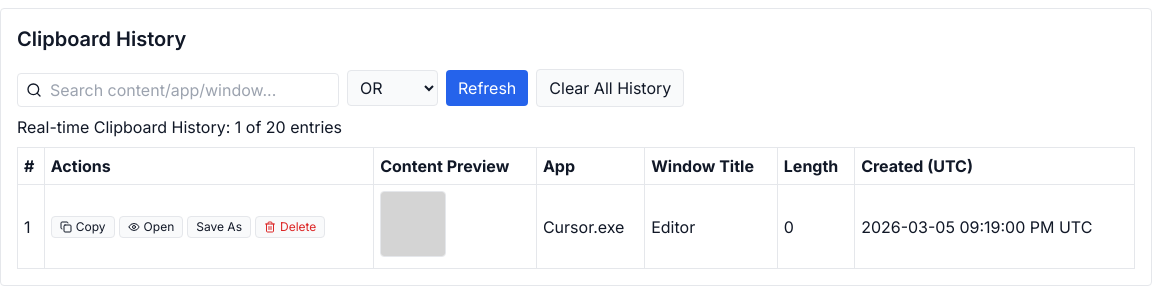
Scenario: ClipboardTab search operators › shows recovered thumbnail status after refresh
Click the button "Refresh": coordinates (487, 88) [446,70,528,106]
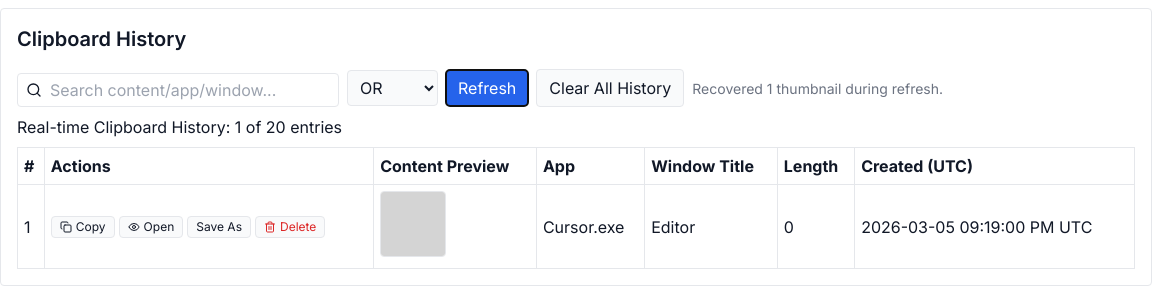
Expected: the text "Recovered 1 thumbnail during refresh." is shown, [692,80,943,97]
